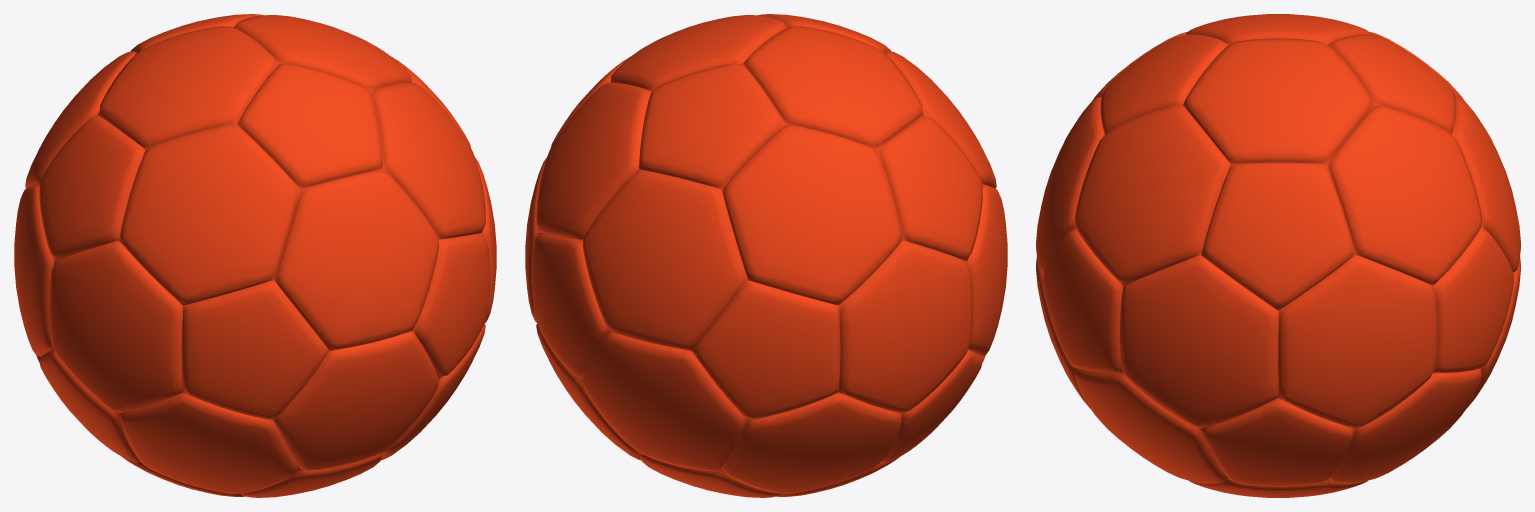
File: Soccer.DAE
3 renders of one model, left to right at view 1: azimuth 30°, elevation 25°; view 2: azimuth 150°, elevation 25°; view 3: azimuth 270°, elevation 25°, orthographic.
Parts seen in each view (by area): view 1: Hedra01; view 2: Hedra01; view 3: Hedra01.
Boxes of the visible parts, box(x1,y1,x2,y2) form: Hedra01: box(14, 14, 496, 497); Hedra01: box(525, 14, 1007, 497); Hedra01: box(1036, 14, 1520, 497).
Bounding box in the file's own units: 127 × 127 × 127.
